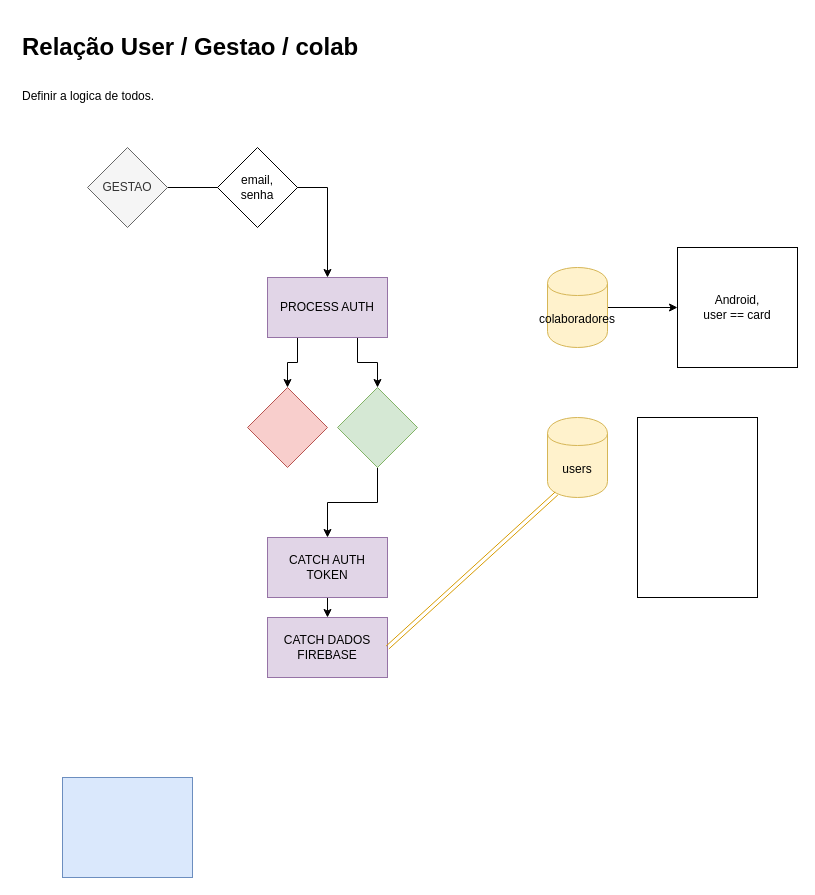
This 815x895 diagram has some shape labels left out. The shapes that lost their labels are listed below. From the top down, each one's centre as x and y in pixels, then its label:
At point 287,427: "false".
At point 377,427: "true".
At point 697,507: "idFazenda, nivel, categorias, type".
At point 127,827: "Creat new User".
